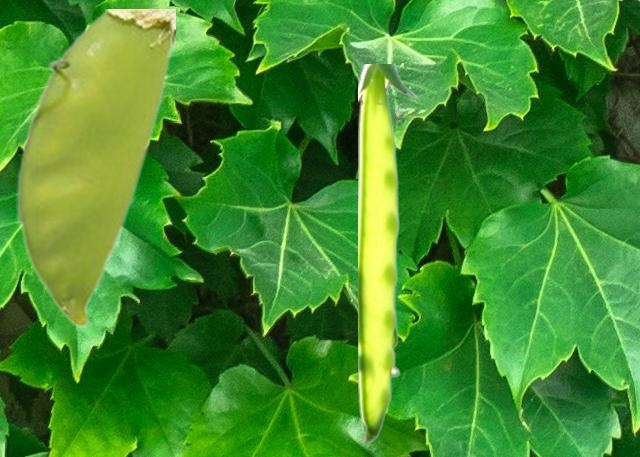pea: (16, 9, 174, 326), (358, 64, 417, 441)
